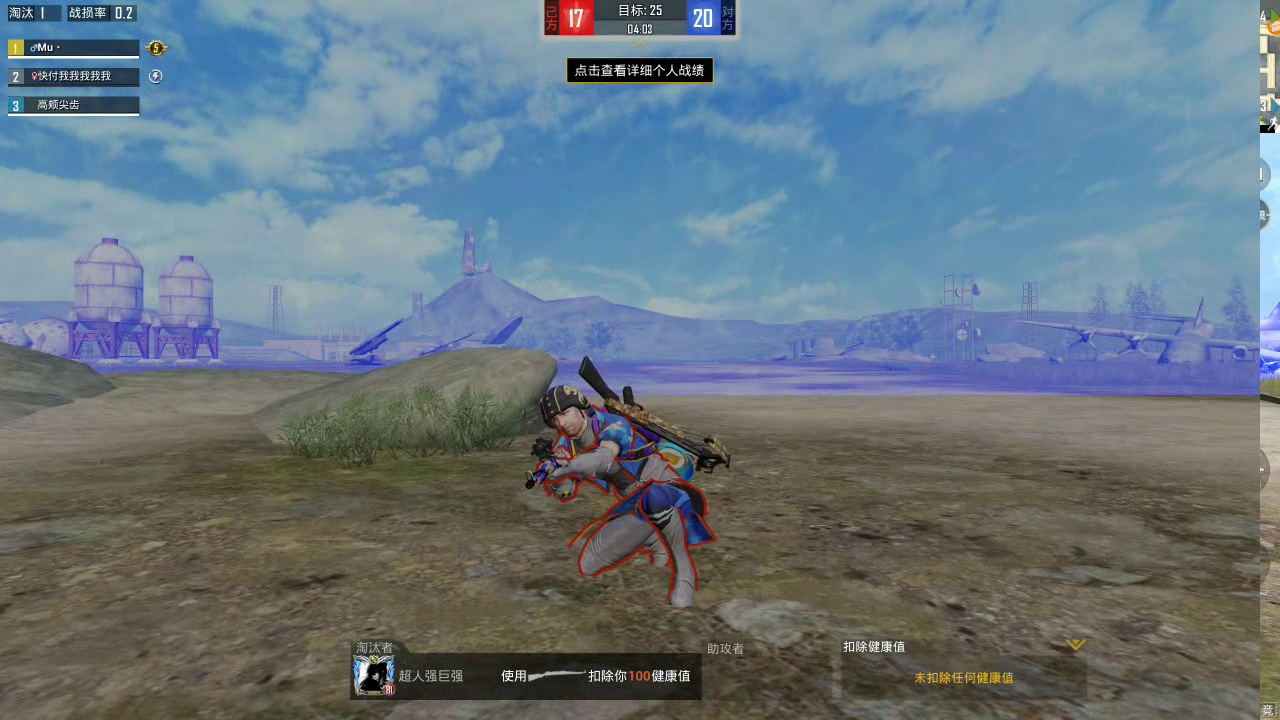enemy: (535, 389, 710, 605)
